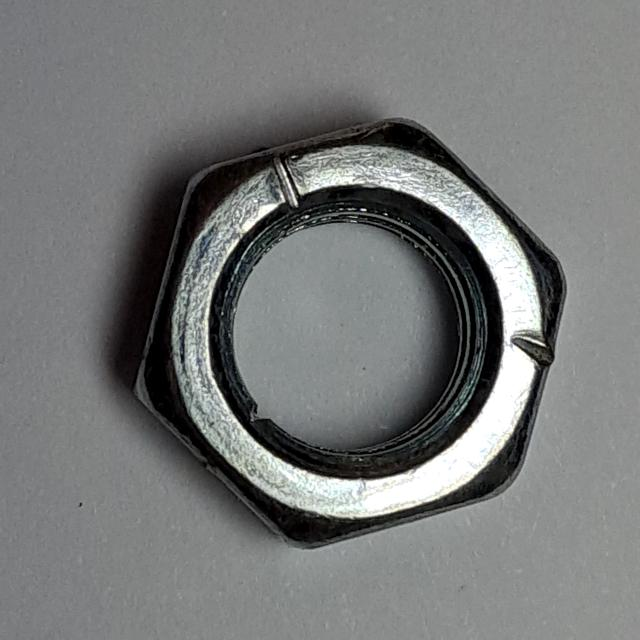Scratches: (126, 107, 577, 566)
